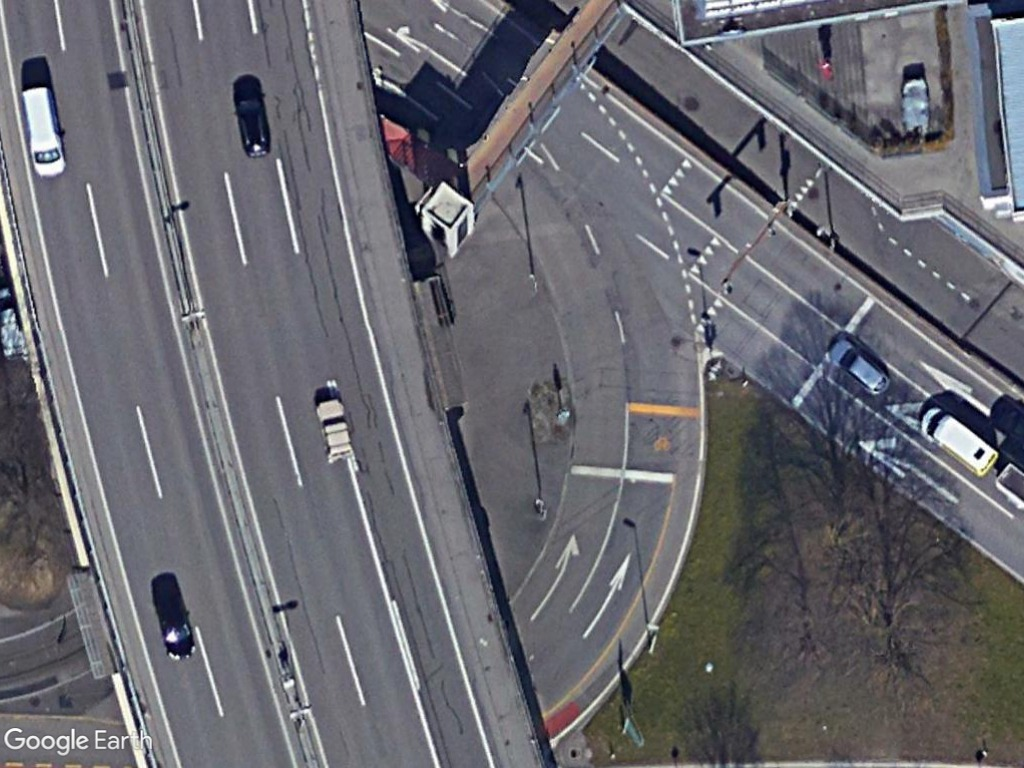car: (825, 334, 892, 398)
van: (918, 401, 1001, 479), (17, 83, 71, 179)
